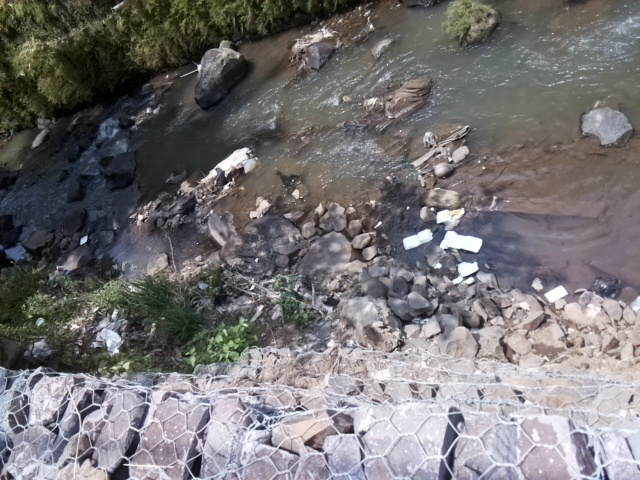Sampah_Plastik: (197, 143, 250, 194), (590, 274, 621, 302)
Sampah_Styrofoam: (439, 230, 486, 256), (403, 226, 435, 250), (544, 284, 569, 305), (454, 261, 479, 278), (435, 209, 454, 224)
